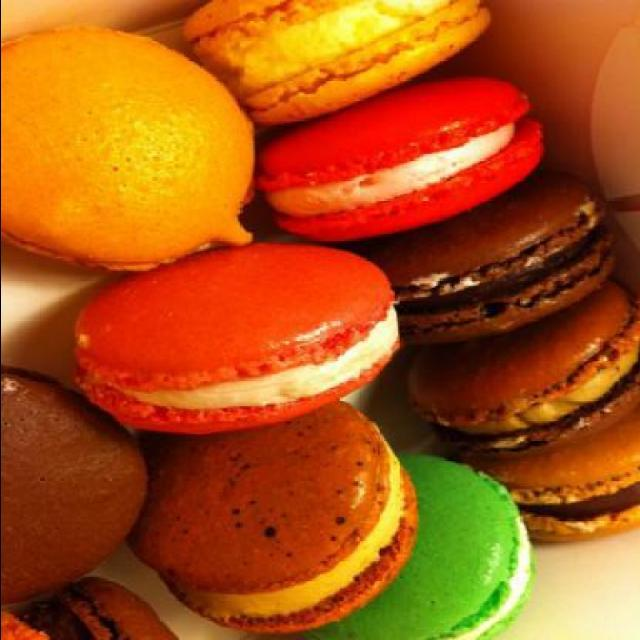Macaron: (1, 4, 638, 638)
